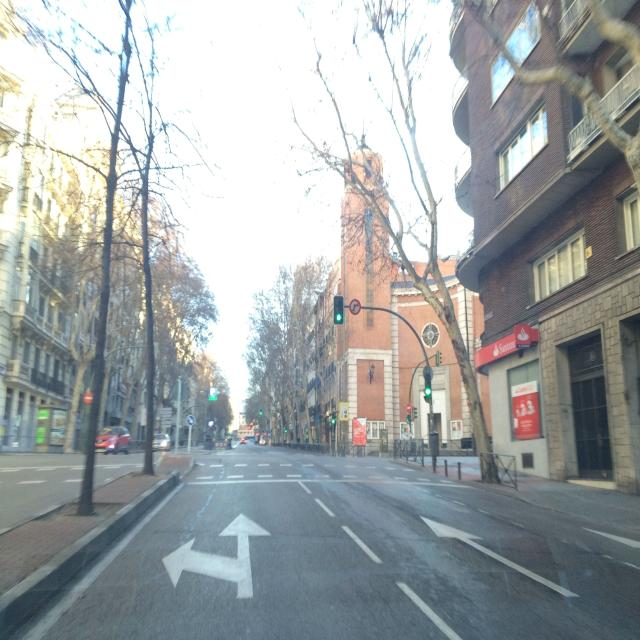car: (94, 425, 131, 454), (152, 432, 171, 451), (203, 436, 216, 450), (224, 437, 232, 449), (240, 437, 247, 445)
